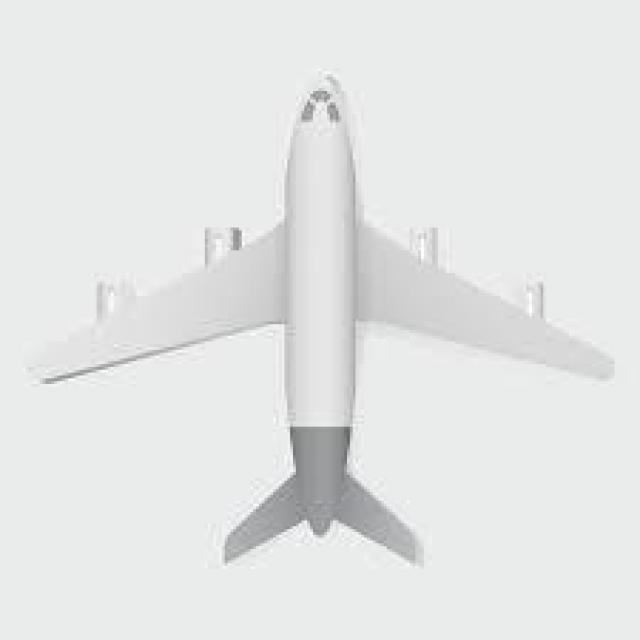Tanks: (44, 102, 607, 558)
